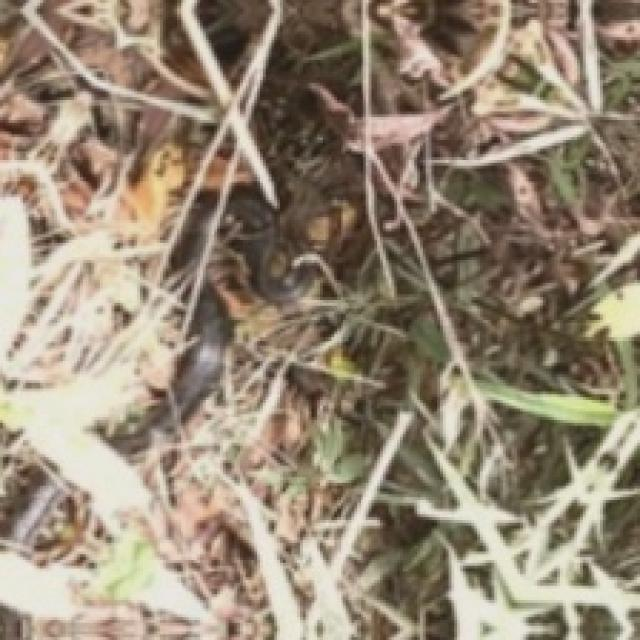king cobra: (114, 190, 319, 452), (10, 480, 61, 552)
